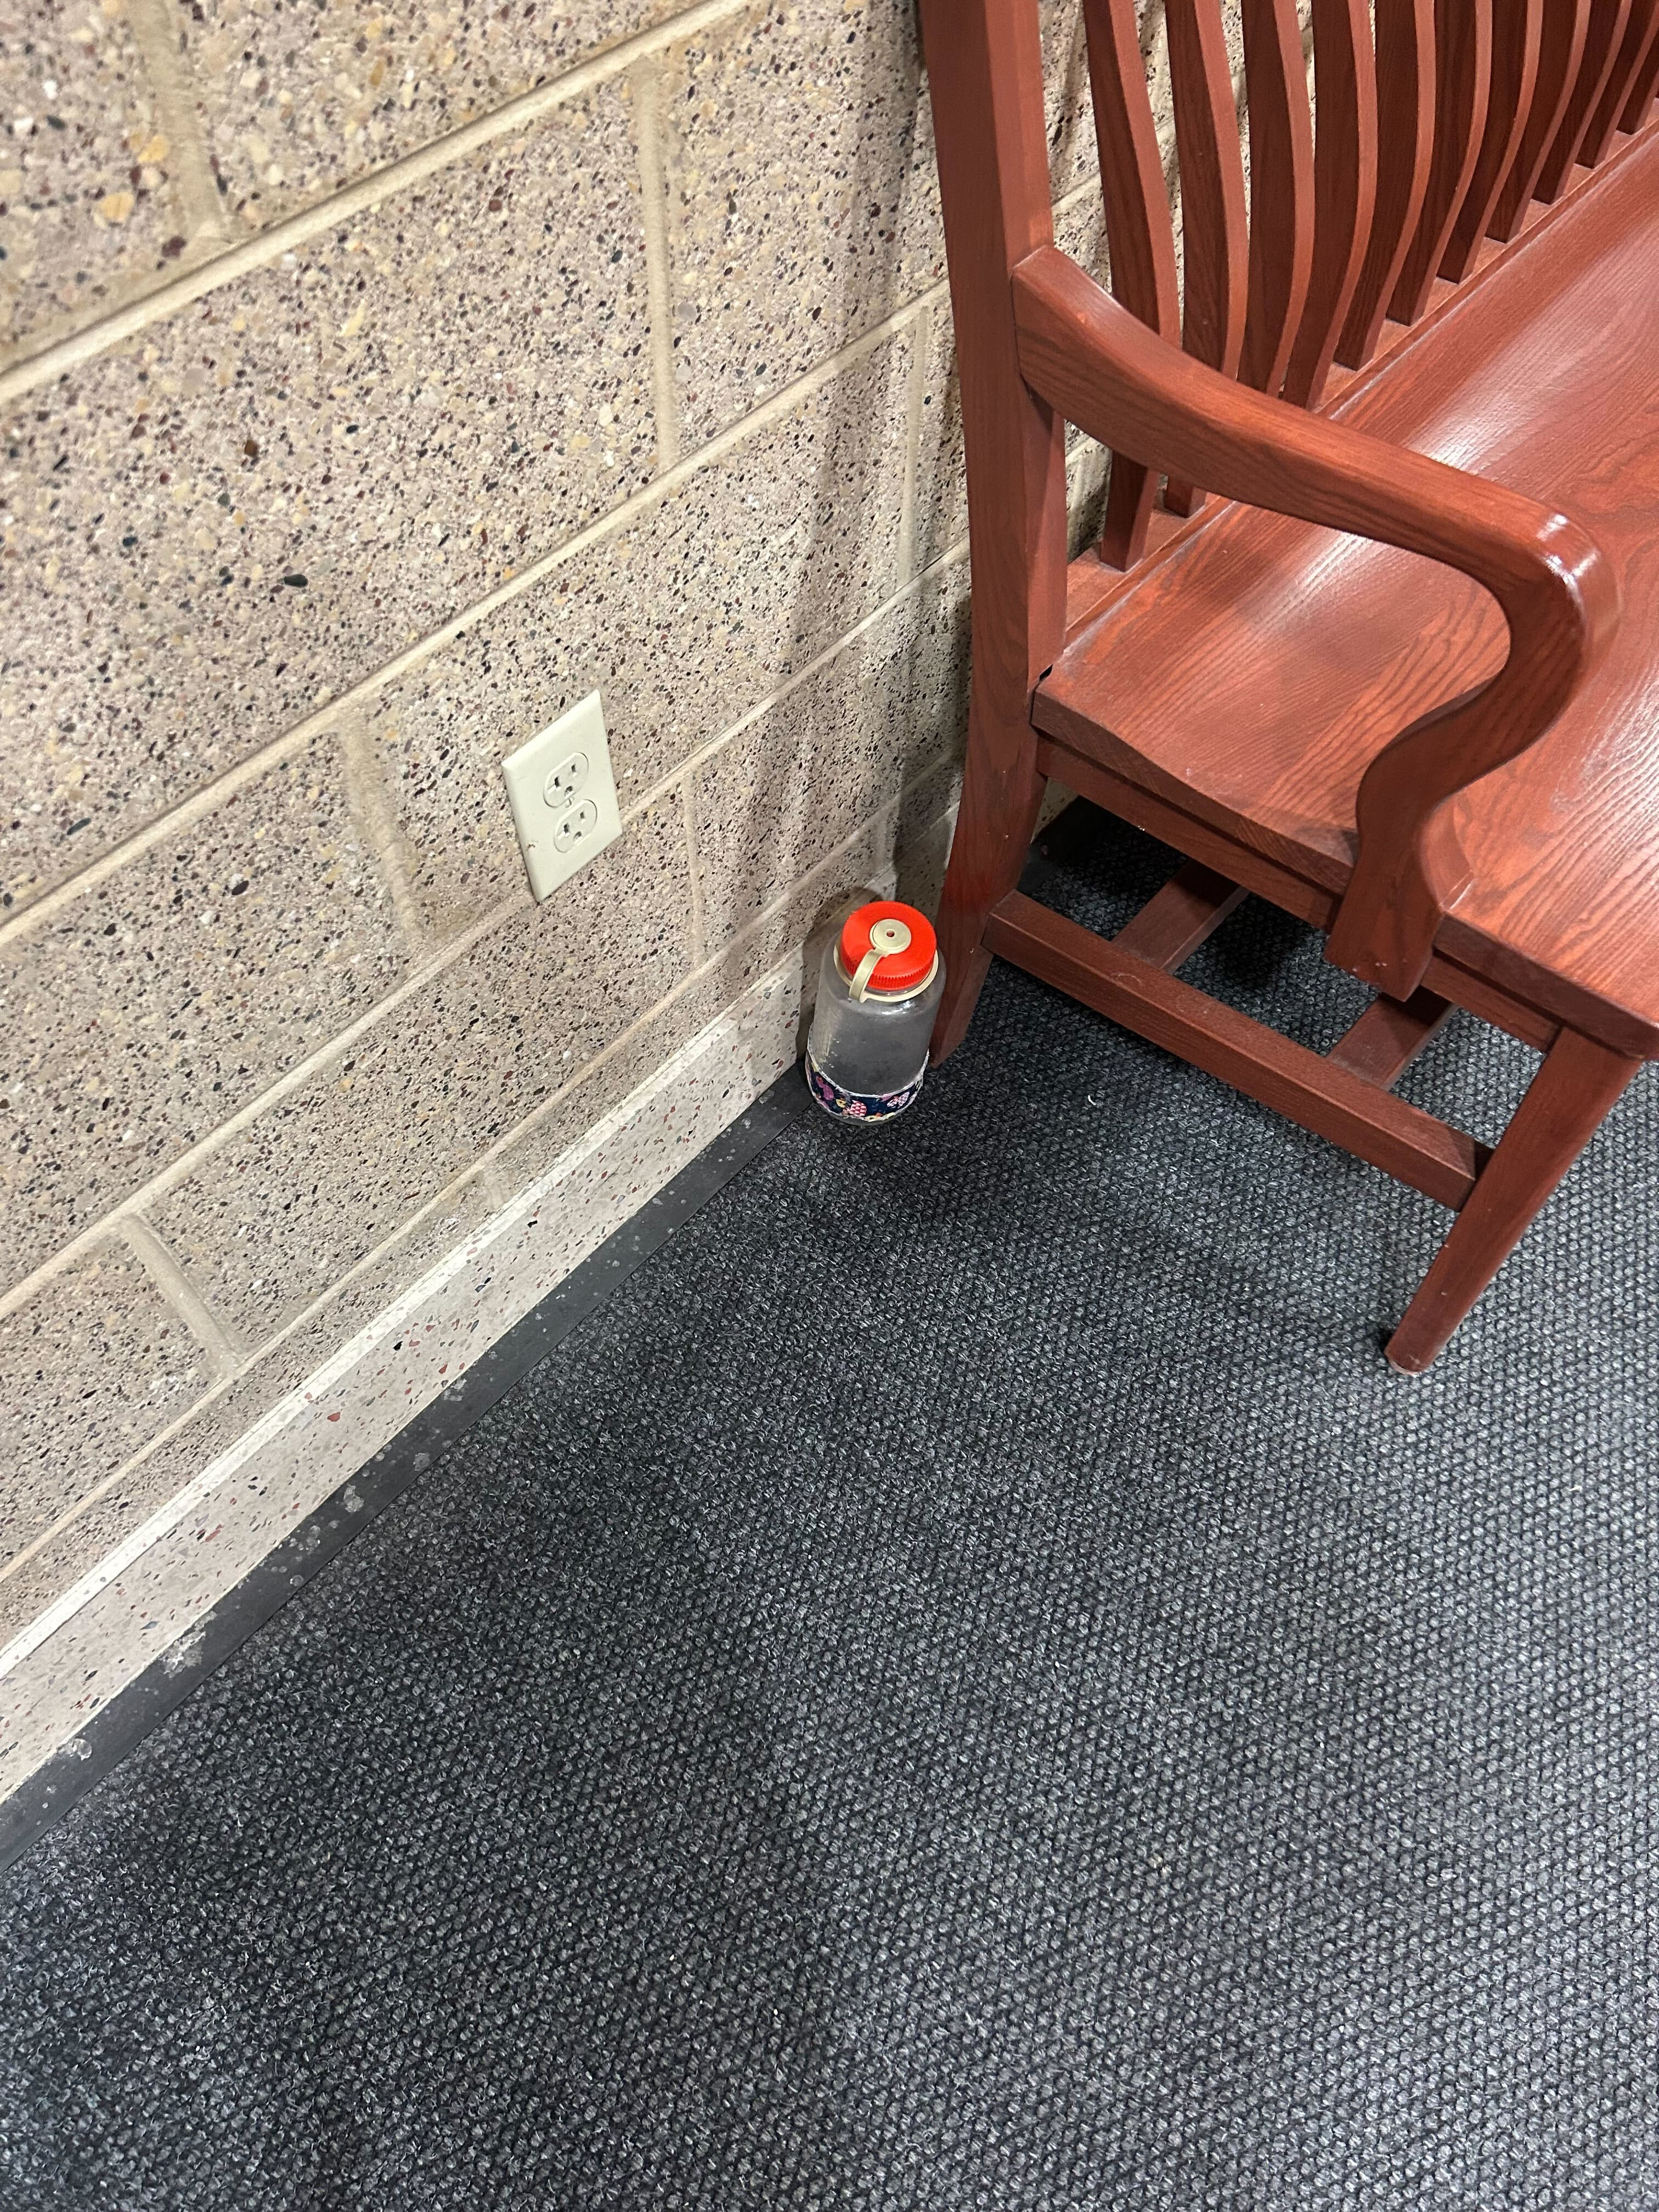bottle: (798, 890, 948, 1136)
